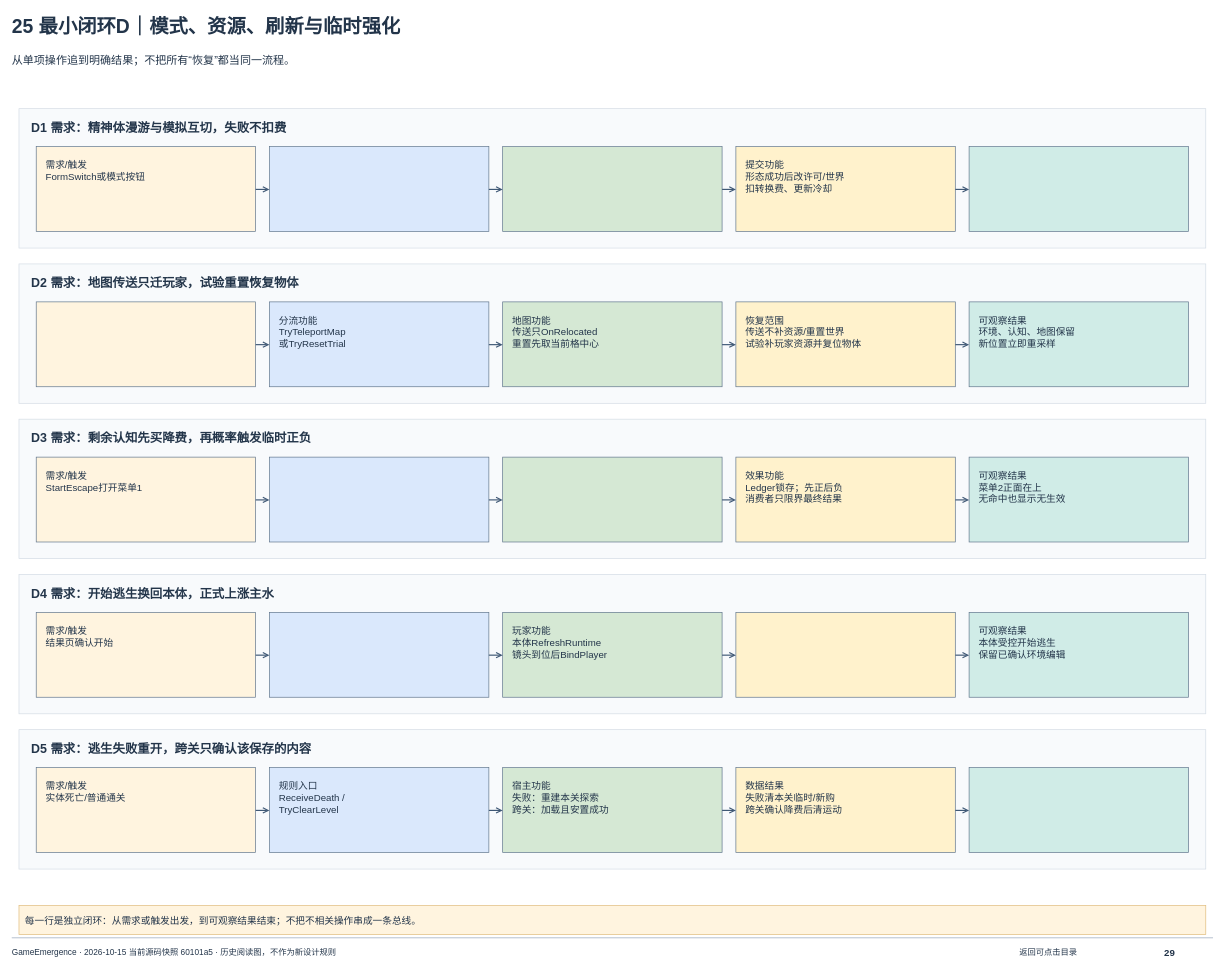
The diagram is 1225 pixels wide and 978 high, and some of its shapes have lost their labels. The shapes that lost their labels are listed below. From the top down, each one's centre as x and y in pixels, then its label:
At (x=379, y=188): "规则功能 TryChangeForm 核对资格/草稿/冷却".
At (x=612, y=188): "执行功能 TryCommitSpiritForm TrySetFlying查当前占用".
At (x=1078, y=188): "可观察结果 同一精神体保留现场 失败保持模式和资源".
At (x=146, y=344): "需求/触发 点击已亮格/模拟重置".
At (x=379, y=499): "费用功能 全列三项，可多次购买 同一LevelCognition结算".
At (x=612, y=499): "抽取功能 购买后r：正负独立触发 对应极性各按权重抽1项".
At (x=379, y=654): "表现入口 精神体消散完成 随后恢复物体默认运行态".
At (x=845, y=654): "规则功能 阶段Escape + Walking 世界恢复、允许主水上涨".
At (x=1078, y=809): "可观察结果 本关默认或下一关初态 不续旧位置、阶段与现场".
